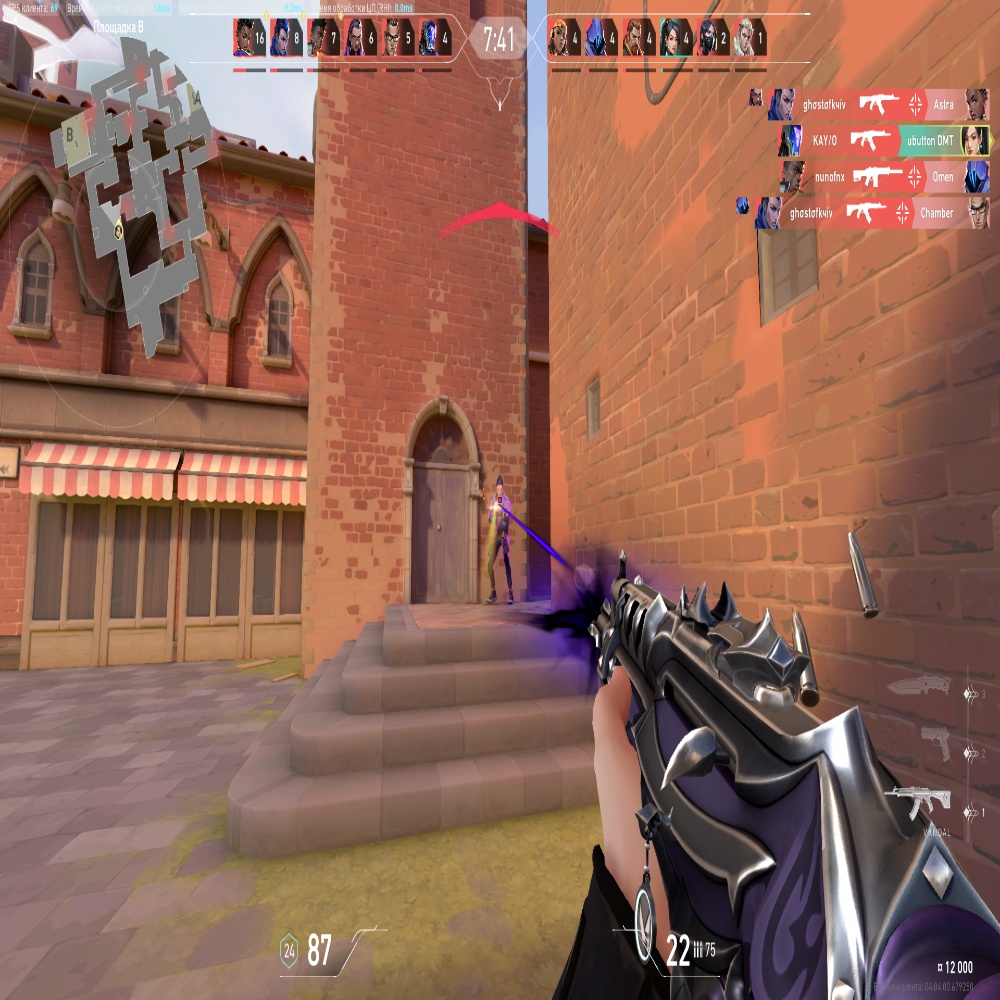body: (491, 501, 510, 539)
head: (497, 478, 503, 494)
